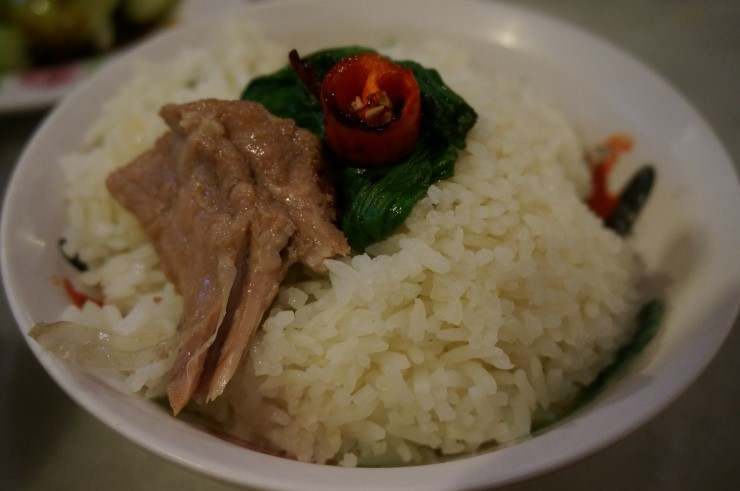plain rice: (323, 271, 623, 406)
